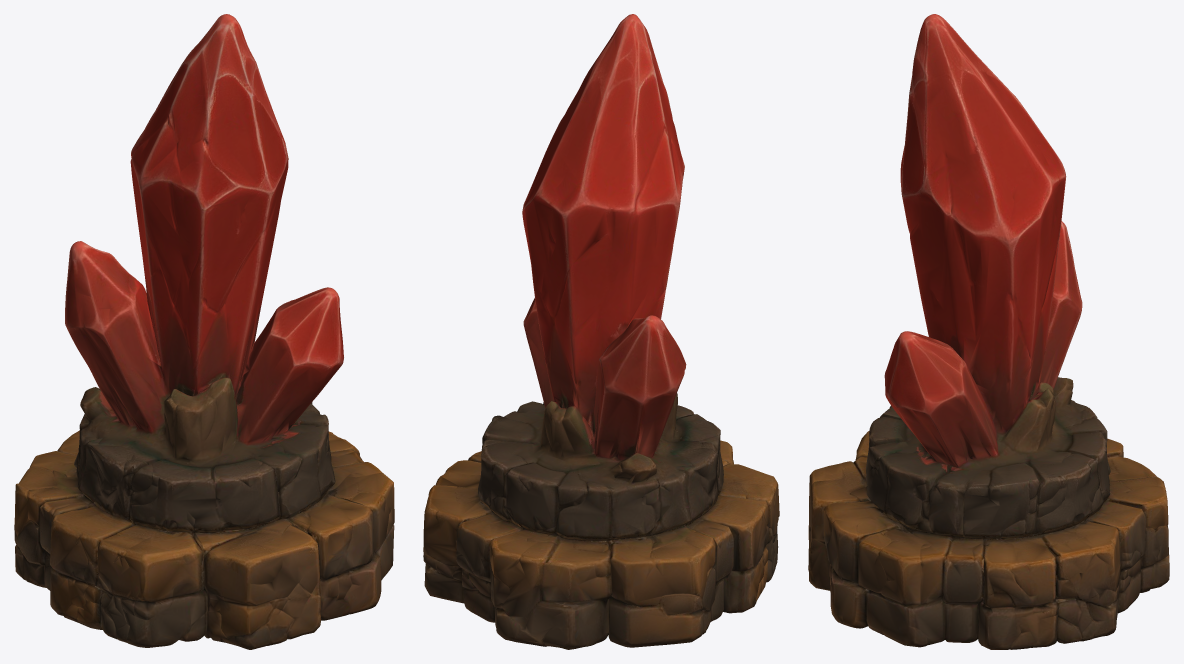
Rendered from cristal_rojo.glb.
The picture shows the model from 3 angles, left to right: view 1: azimuth 30°, elevation 25°; view 2: azimuth 150°, elevation 25°; view 3: azimuth 270°, elevation 25°; orthographic projection. The views are drawn at different scales.
Visible parts, largest first — view 1: cristal_rojo; view 2: cristal_rojo; view 3: cristal_rojo.
Part boxes in pixels (x1=…): cristal_rojo: x1=14, y1=14, x2=394, y2=649; cristal_rojo: x1=423, y1=14, x2=779, y2=649; cristal_rojo: x1=808, y1=14, x2=1169, y2=649.
Size of what is drawn, in the model's own units: 0.5691 by 1 by 0.5834.
Materials: 1 (1 with a texture image).
